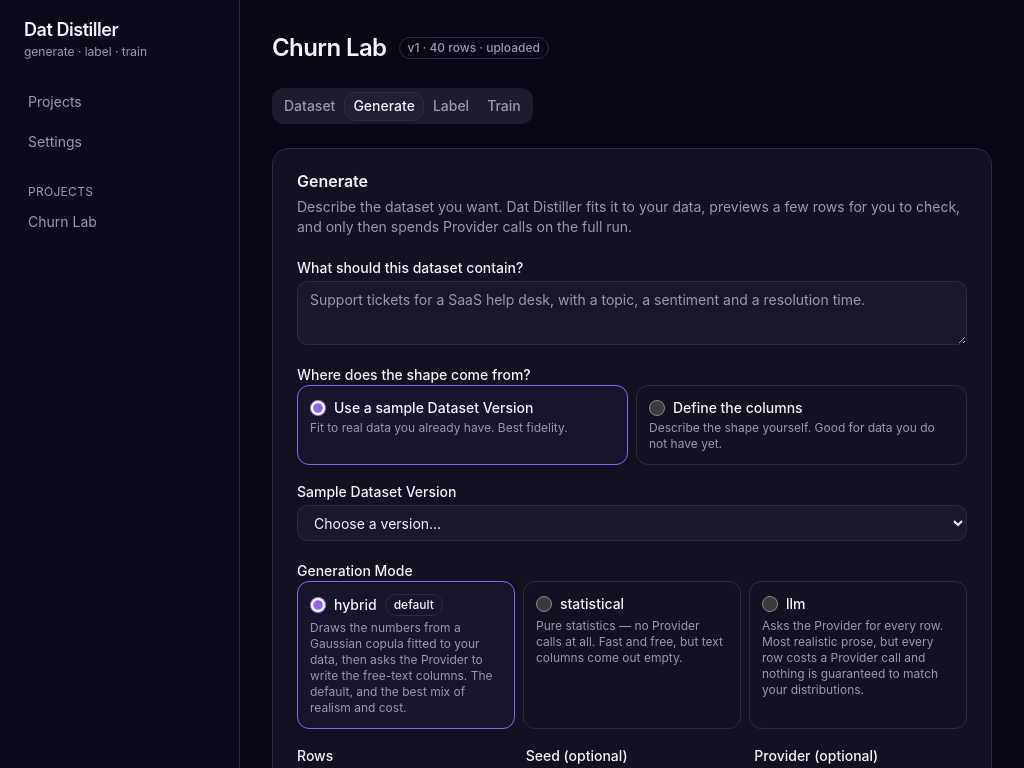
Test case: Generate step — the preview gate › will not run anything before a preview, and says why
This screenshot has width=1024, height=768.
In the text box labelled "What should this dataset contain?": (632, 313) [297,281,967,345], type "support tickets"
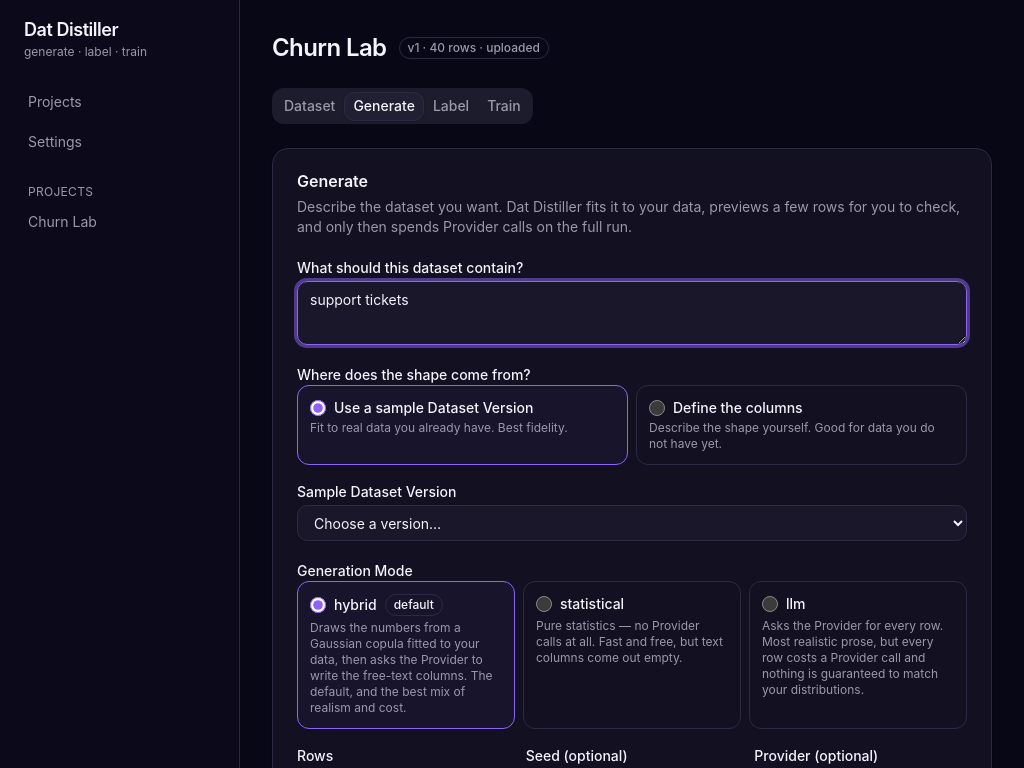
Select "v1 · 40 rows · uploaded" in the dropdown labelled "Sample Dataset Version": (632, 523) [297,505,967,541]
(page scrolled)
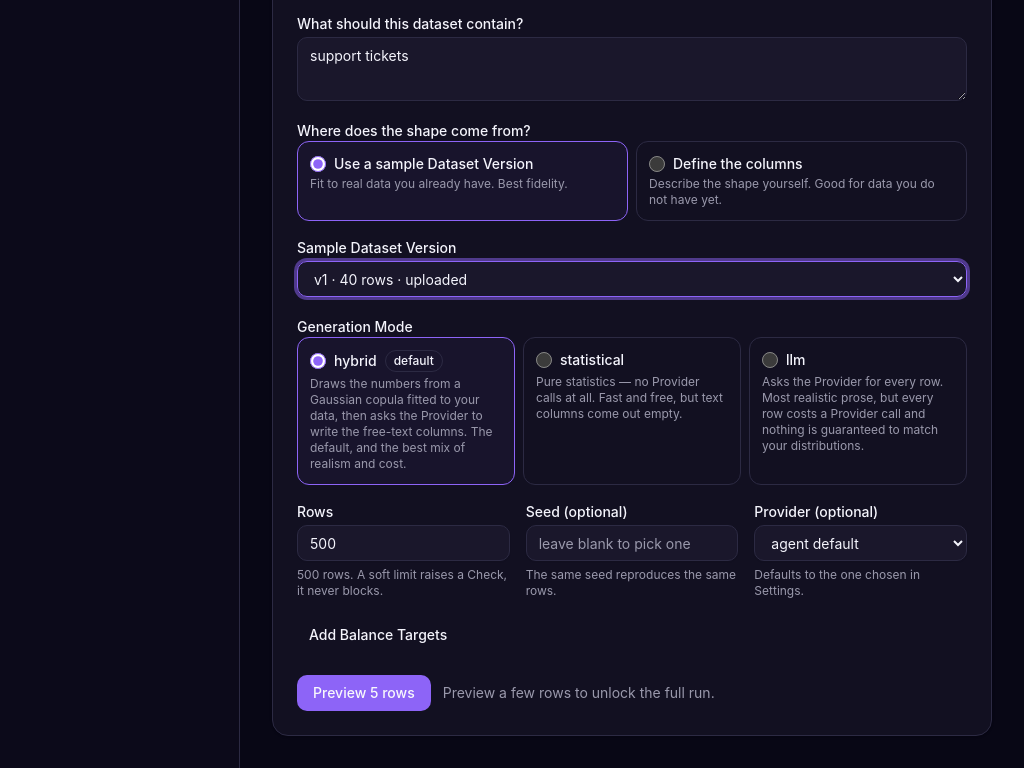
Check: the button "Preview 5 rows" is enabled, box [297,675,431,711]
Check: the text "Preview a few rows to unlock the full run." is shown, box [443,683,715,703]
